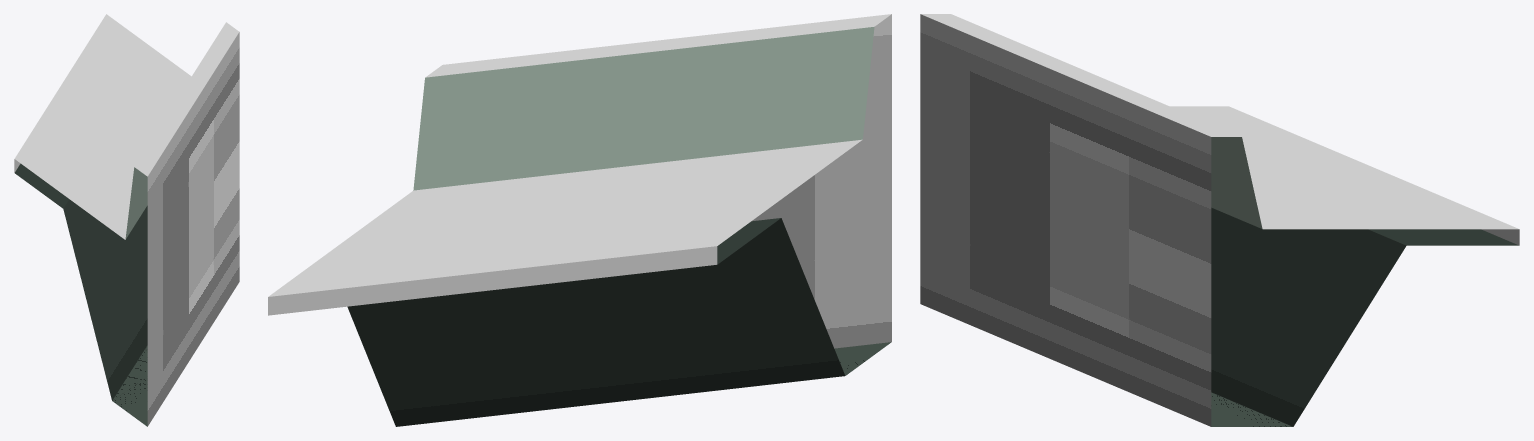
The model's file is run_desk_inside_unit_item.obj.
3 views of the same model, side by side, from view 1: azimuth 30°, elevation 25°; view 2: azimuth 150°, elevation 25°; view 3: azimuth 270°, elevation 25° (orthographic). The views are drawn at different scales.
Bounding box in the file's own units: 1 × 1.1 × 2.06.
